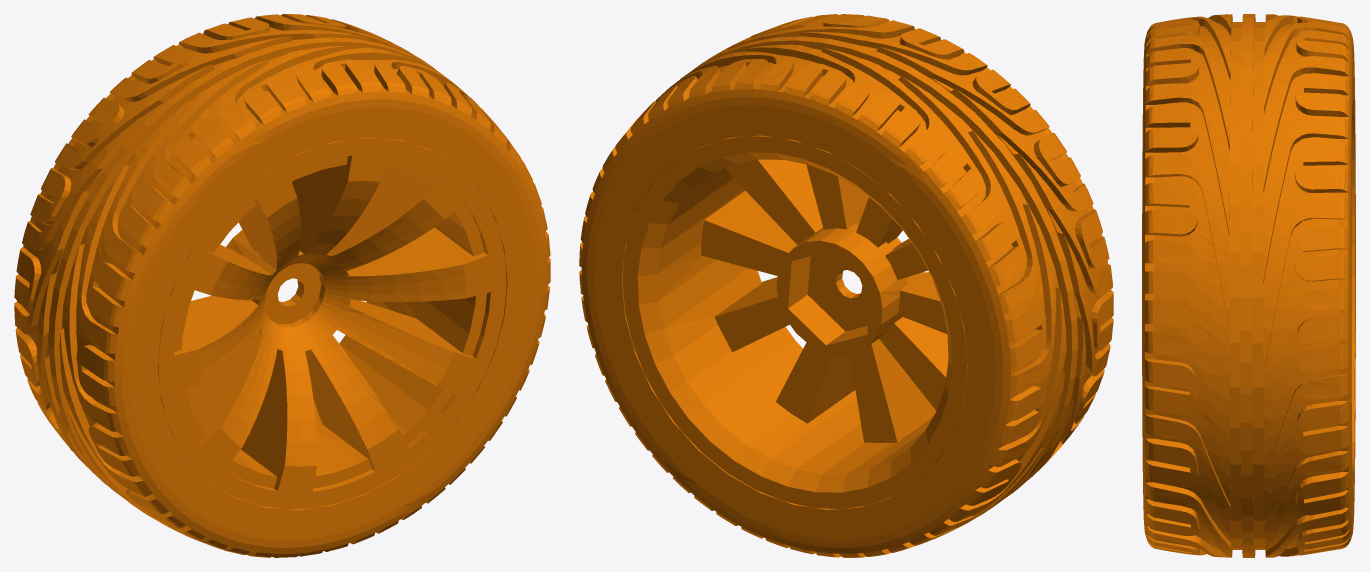
Rendered from front_right_wheel.dae.
The picture shows the model from 3 angles, left to right: view 1: azimuth 30°, elevation 25°; view 2: azimuth 150°, elevation 25°; view 3: azimuth 270°, elevation 25°; orthographic projection. The views are drawn at different scales.
Visible parts, largest first — view 1: front_right_wheel; view 2: front_right_wheel; view 3: front_right_wheel.
Part boxes in pixels (x1,y1,x2,y2): front_right_wheel: [14, 14, 550, 557]; front_right_wheel: [579, 14, 1113, 557]; front_right_wheel: [1142, 14, 1355, 557].
Bounding box in the file's own units: 0.069 × 0.0271 × 0.069.
